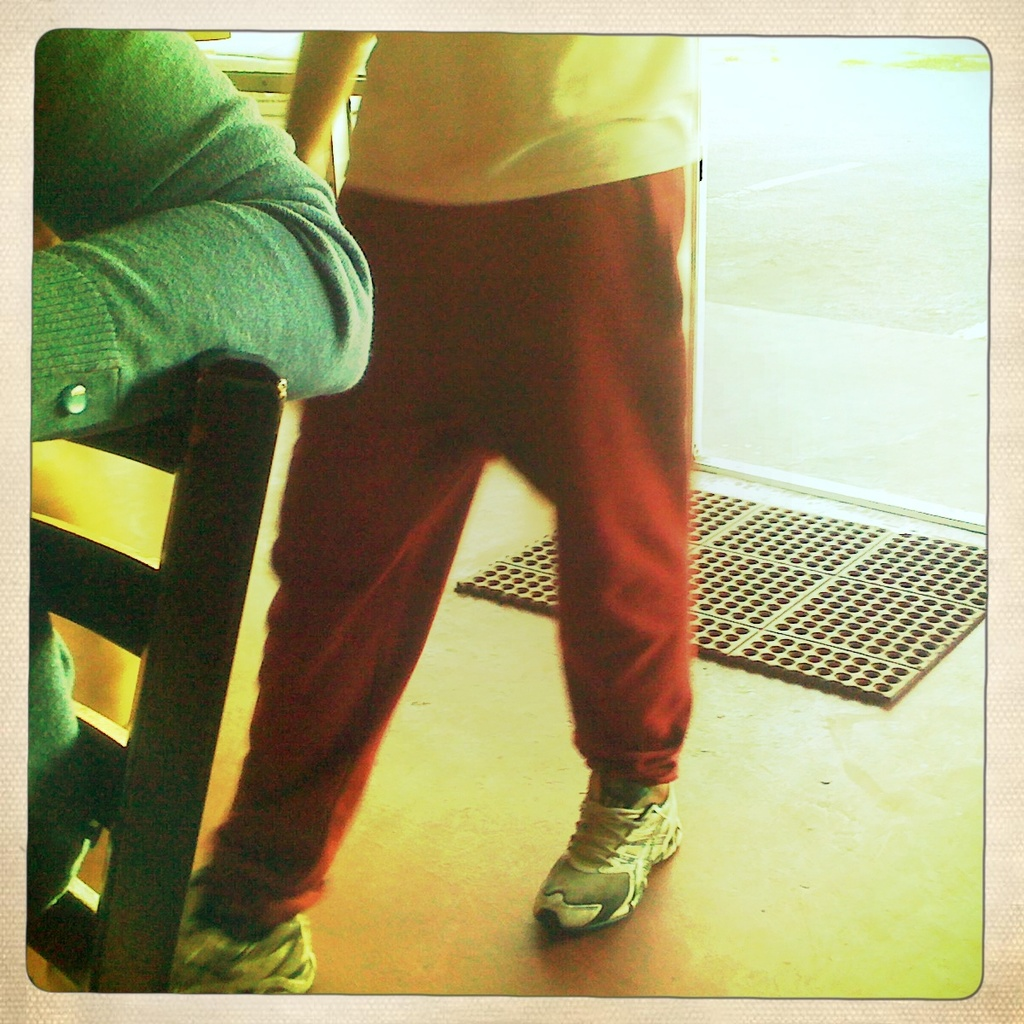Person: (47, 30, 707, 998), (25, 30, 373, 916)
